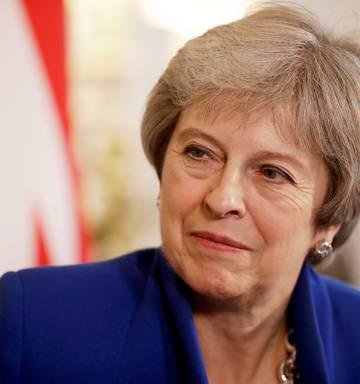Sober: (165, 90, 319, 292)
